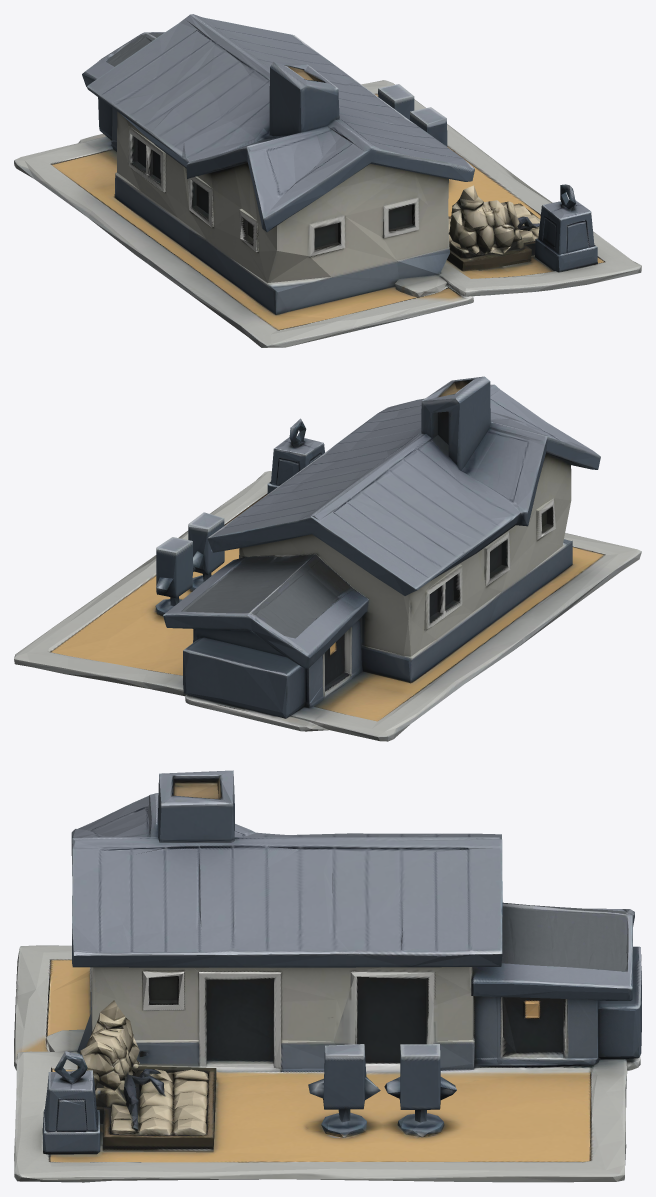
The model's file is AntiInfantry.glb.
The picture shows the model from 3 angles, top to bottom: view 1: azimuth 30°, elevation 25°; view 2: azimuth 150°, elevation 25°; view 3: azimuth 270°, elevation 25°; orthographic projection. The views are drawn at different scales.
Visible parts, largest first — view 1: tripo_node_577f5db7-843c-492e-b6f4-172779d96c54; view 2: tripo_node_577f5db7-843c-492e-b6f4-172779d96c54; view 3: tripo_node_577f5db7-843c-492e-b6f4-172779d96c54.
Boxes of the visible parts, bbox=[...] form: tripo_node_577f5db7-843c-492e-b6f4-172779d96c54: bbox=[14, 14, 641, 347]; tripo_node_577f5db7-843c-492e-b6f4-172779d96c54: bbox=[14, 376, 641, 741]; tripo_node_577f5db7-843c-492e-b6f4-172779d96c54: bbox=[14, 770, 641, 1182].
Bounding box in the file's own units: 0.807 × 0.4326 × 0.9811.
Materials: 1 (1 with a texture image).
